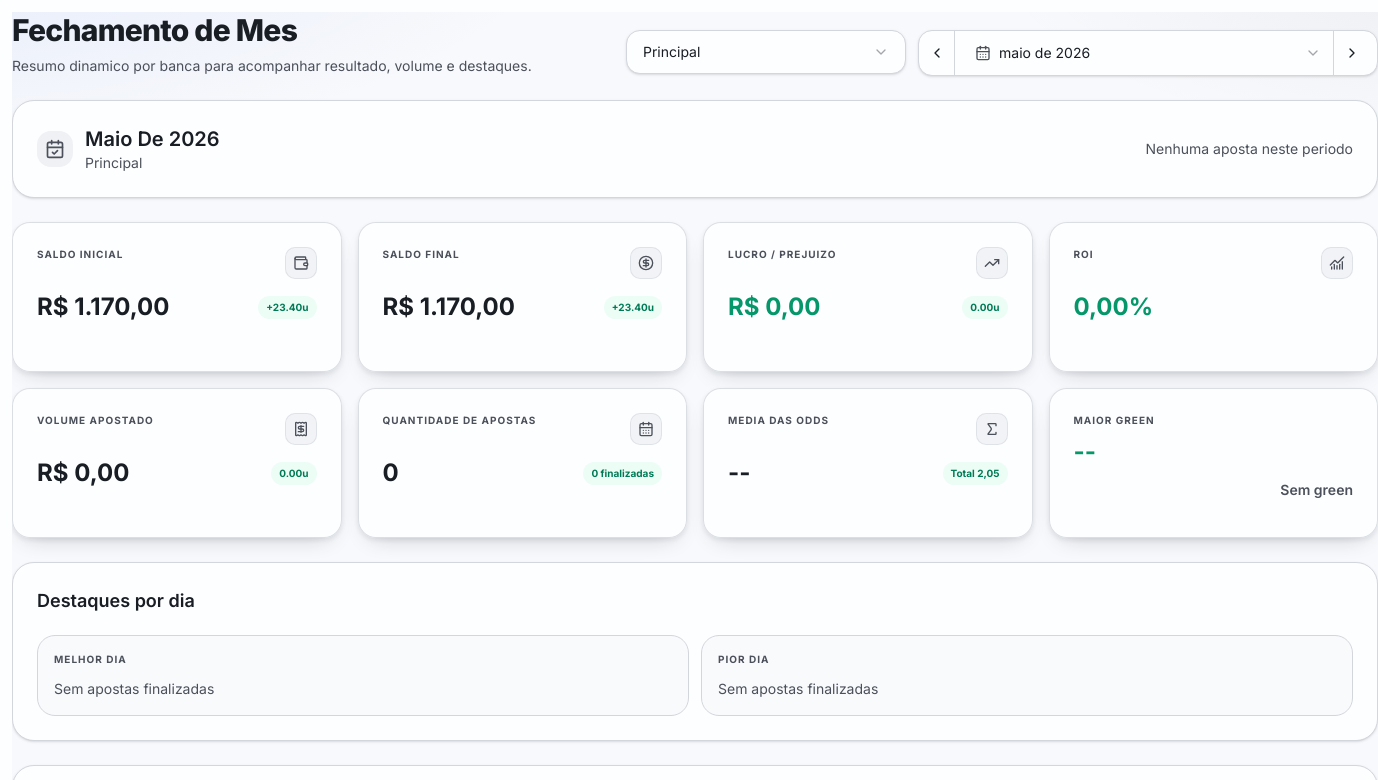
MonthlyClosing › selects any available month directly and calculates metrics in currency and units
Expected: the heading "Fechamento de Mes" is shown, [12,12,297,48]
Click the dropdown named "Periodo": (1045, 52) [963,31,1333,75]
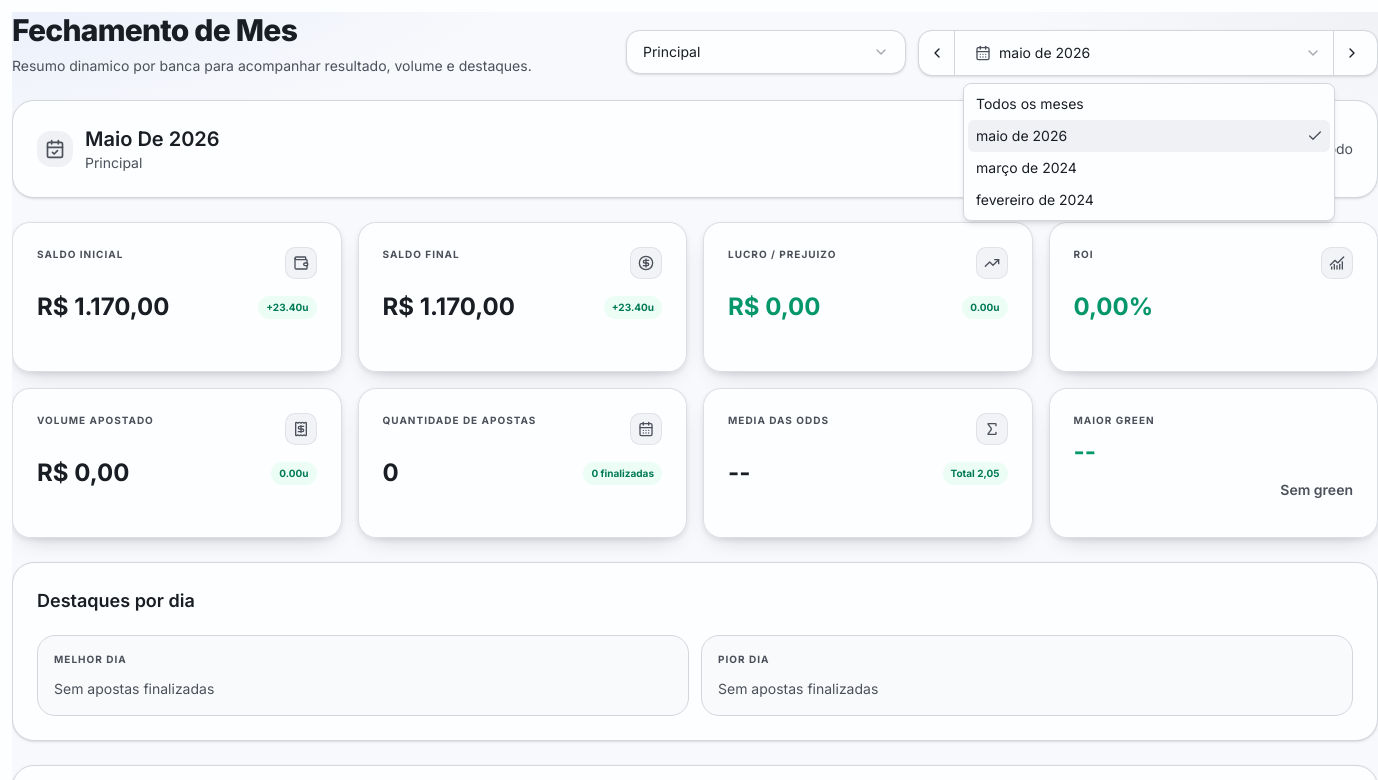
Click the option "março de 2024": (1026, 168) [976,159,1077,176]
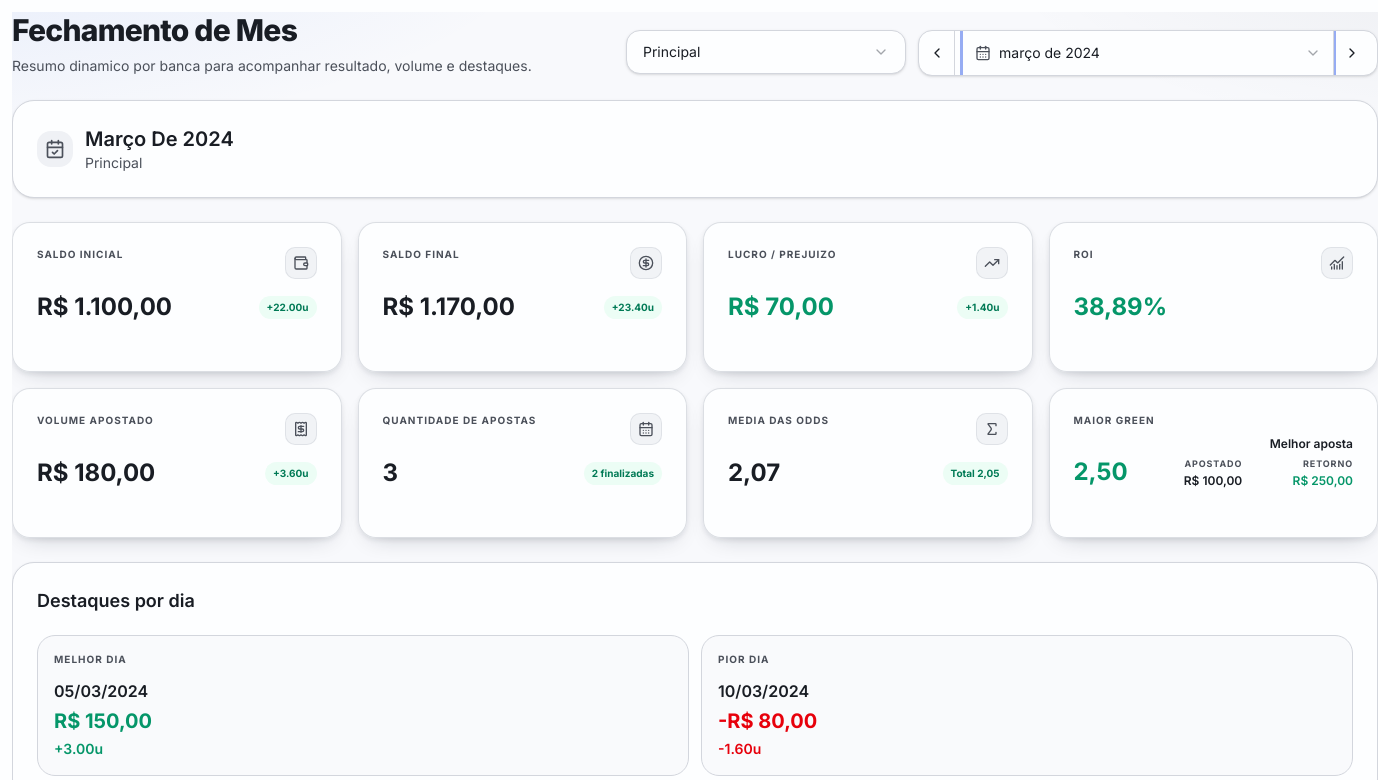
Expected: the text "março de 2024" is shown, [999,43,1100,63]
Expected: the heading "R$ 1.100,00" is shown, [37,291,172,323]
Expected: the text "+22.00u" is shown, [259,296,316,319]
